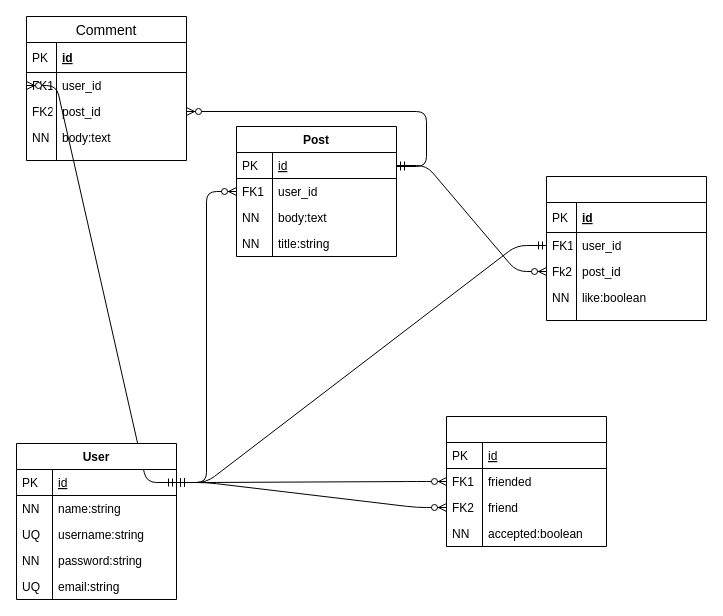
Image size: 723x616. Some labels were removed from this diagram. The shapes that lost their labels are listed below. From the top down, each one's box as (x1, y1, x2, y2) in pixels, then its label:
(546, 176, 706, 320): Reaction
(446, 416, 606, 546): Friendship
